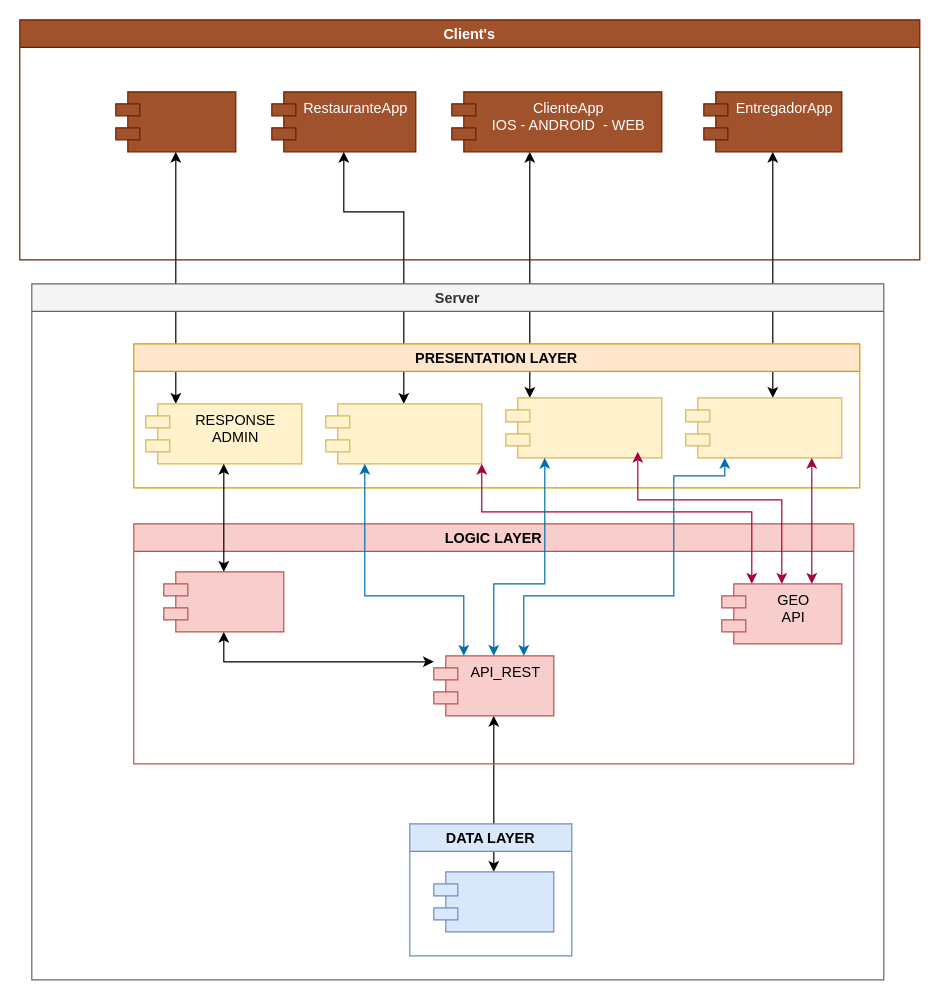
This 940x1000 diagram has some shape labels left out. The centre of each missing label's shape, as x and y in pixels:
"AdminApp" belongs at pixel 175 121.
"BUSINESS CORE" belongs at pixel 223 601.
"DATA PROVIDER" belongs at pixel 493 901.
"RESPONSE CLIENTE" belongs at pixel 583 427.
"RESPONSE ENTREGADOR" belongs at pixel 763 427.
"RESPONSE RESTAURANTE" belongs at pixel 403 433.
